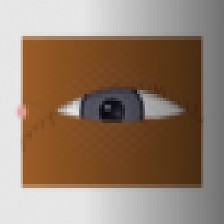hemorrhage_spot: (96, 92, 190, 167)
